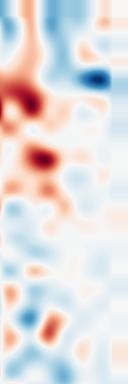filament: (0, 74, 54, 137)
